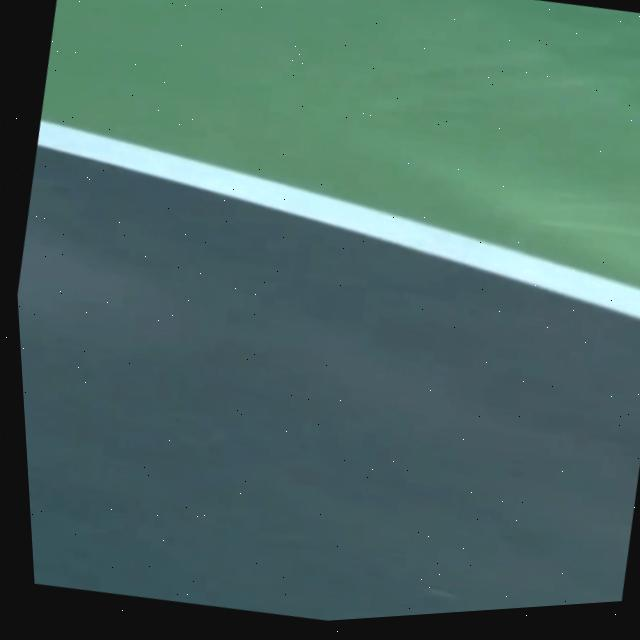right: (36, 121, 640, 321)
